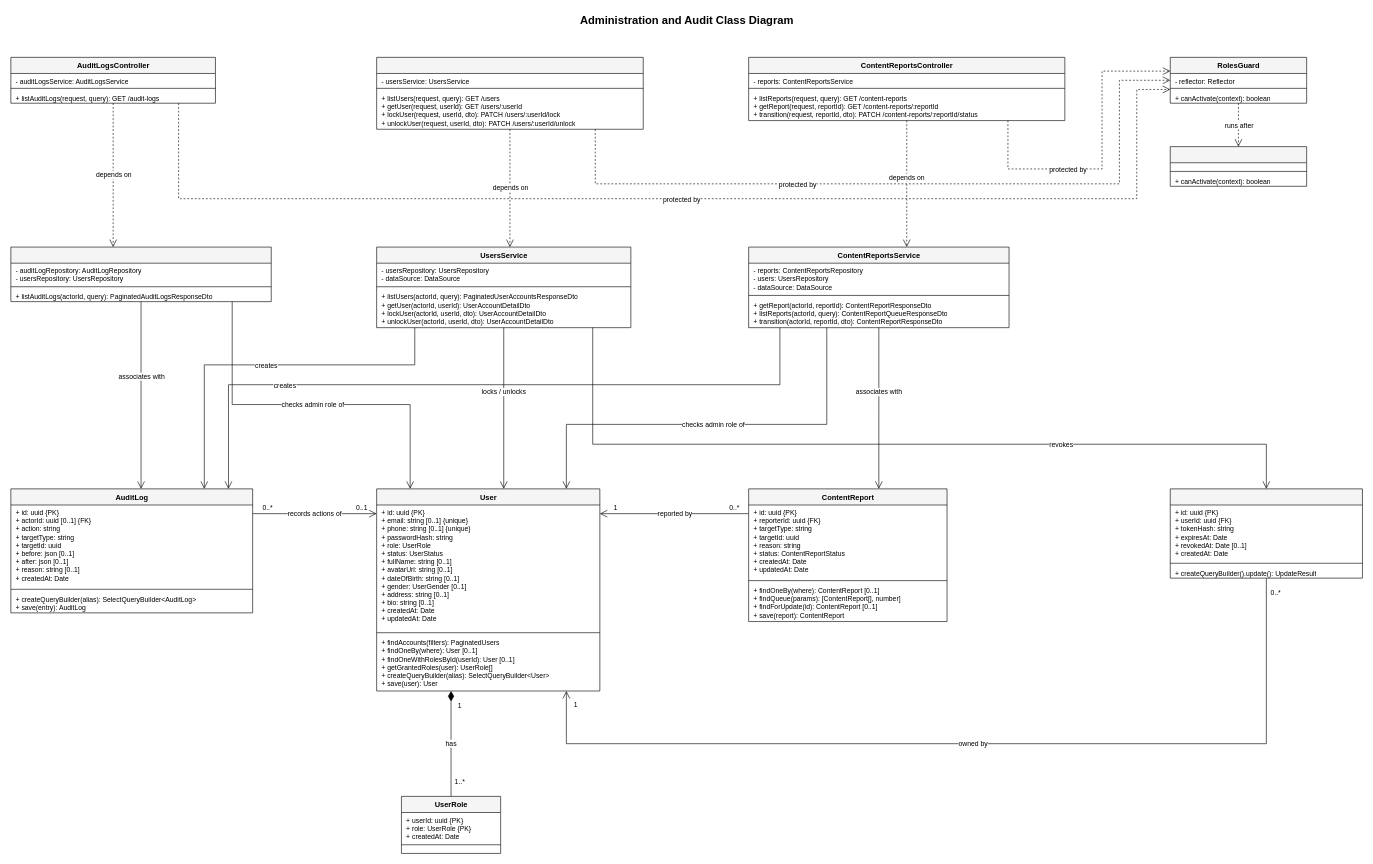
This 1373x864 diagram has some shape labels left out. Here are the shapes that lost their labels. From the top down, the box of each, then its label:
(376, 57, 643, 129): UsersController
(1170, 146, 1307, 186): JwtAuthGuard
(10, 246, 271, 302): AuditLogsService
(1170, 488, 1362, 578): RefreshToken
